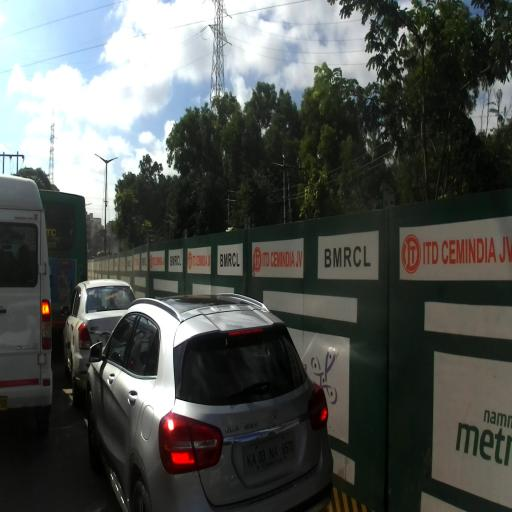street_light_0: (94, 153, 108, 166), (106, 157, 118, 167), (85, 202, 92, 207)
